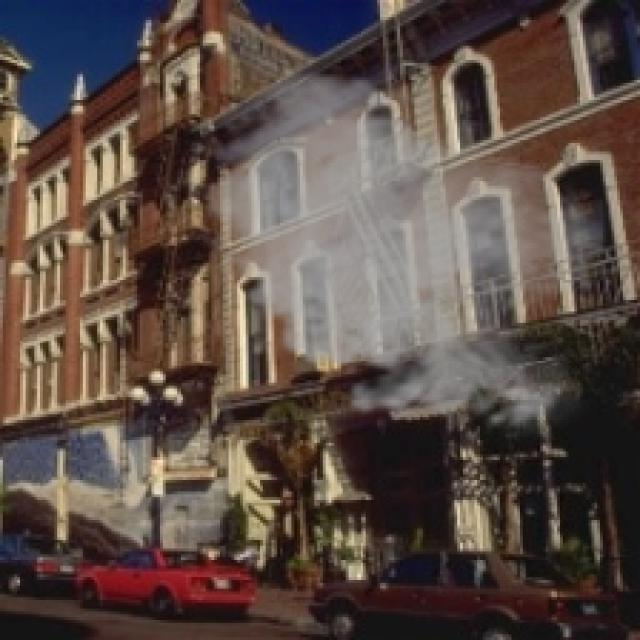Smoke: (188, 63, 608, 440)
